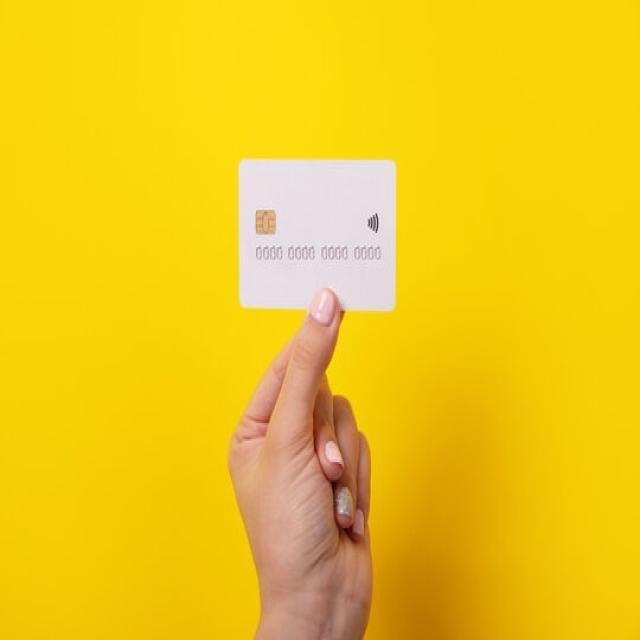payment_card: (237, 157, 396, 312)
